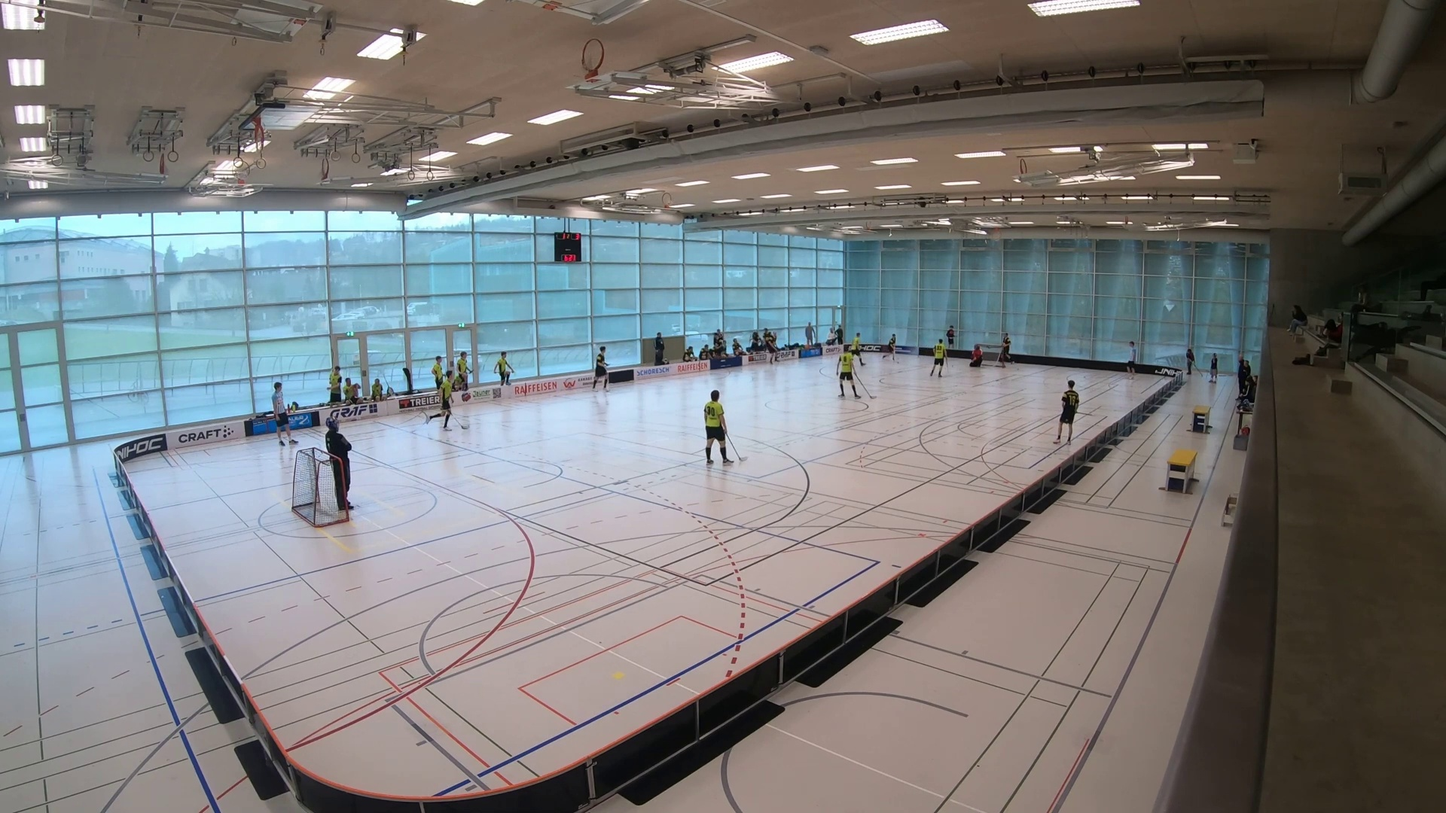Schiri: (262, 377, 300, 447), (1123, 340, 1140, 383)
ball: (897, 360, 899, 365)
goalkeeper: (321, 415, 353, 509), (967, 344, 986, 369)
player: (700, 387, 746, 465), (424, 370, 473, 433), (1052, 372, 1094, 445), (835, 344, 879, 402), (926, 334, 952, 380), (590, 343, 612, 395), (847, 327, 867, 366), (882, 329, 901, 363), (766, 331, 782, 366), (999, 332, 1014, 366)
